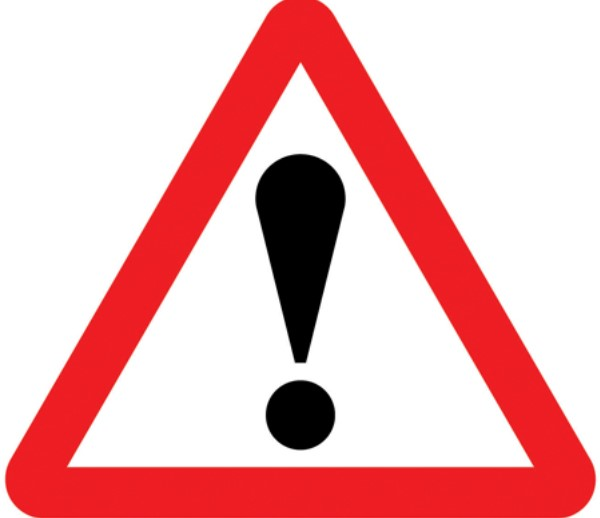Danger: (1, 1, 600, 518)
